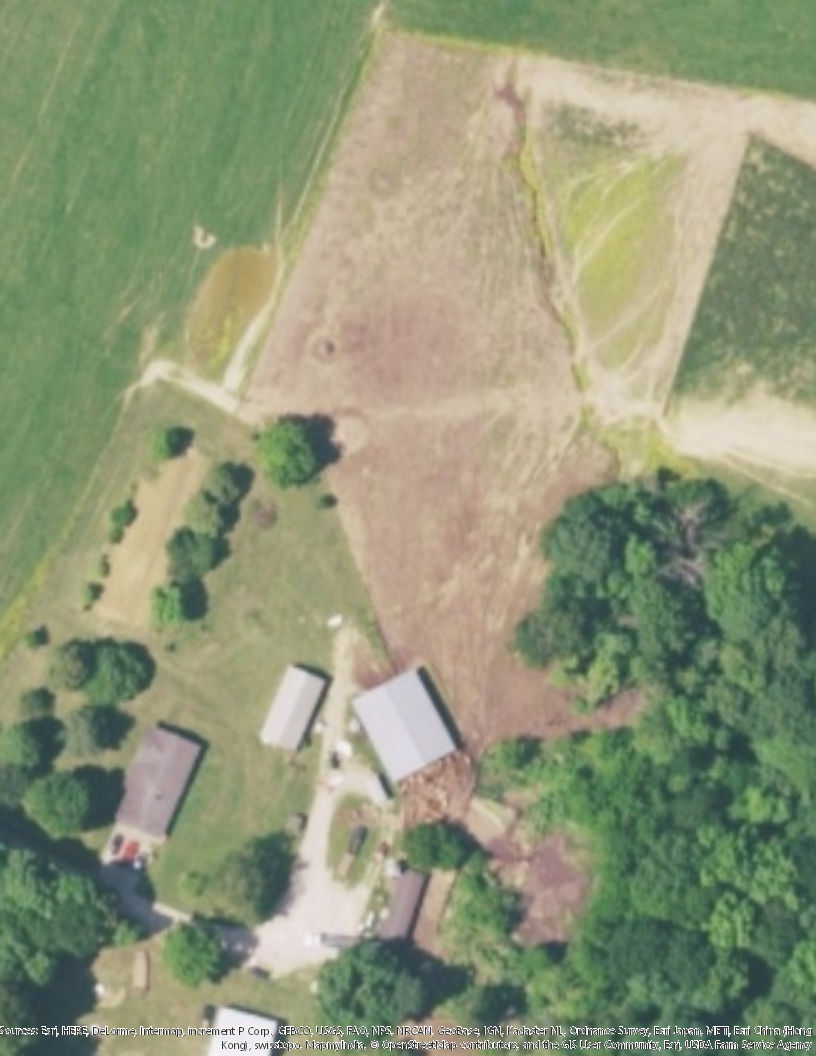cafo: (342, 659, 488, 815)
